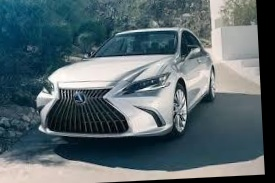car: (23, 19, 223, 156)
